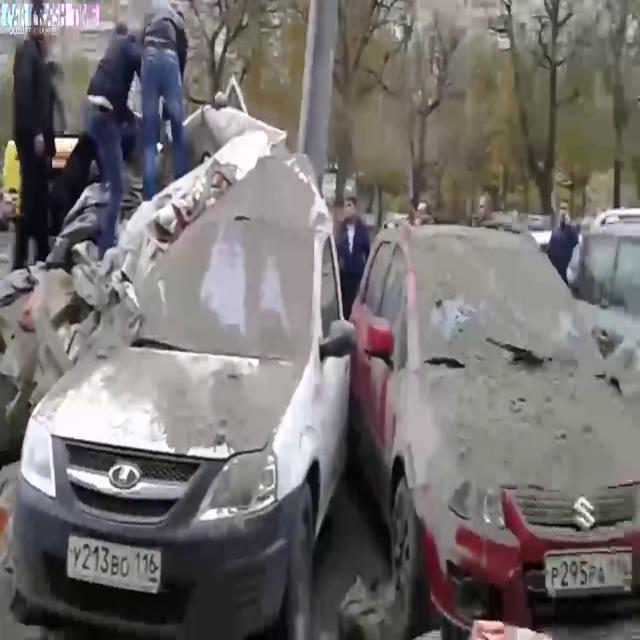Accident: (36, 123, 316, 540), (381, 200, 634, 625)
